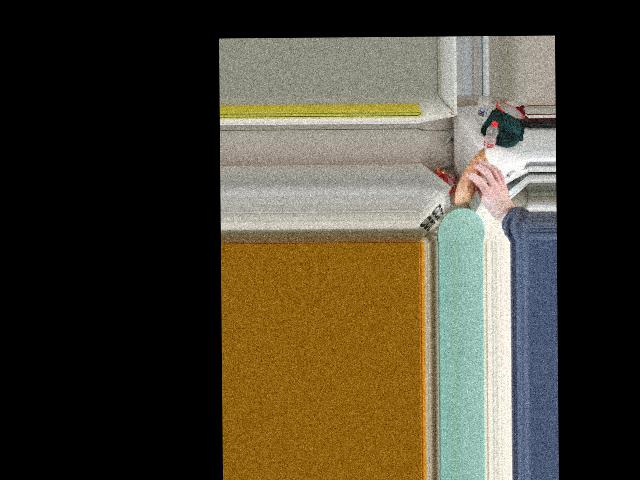sweet_potato: (455, 151, 496, 195)
